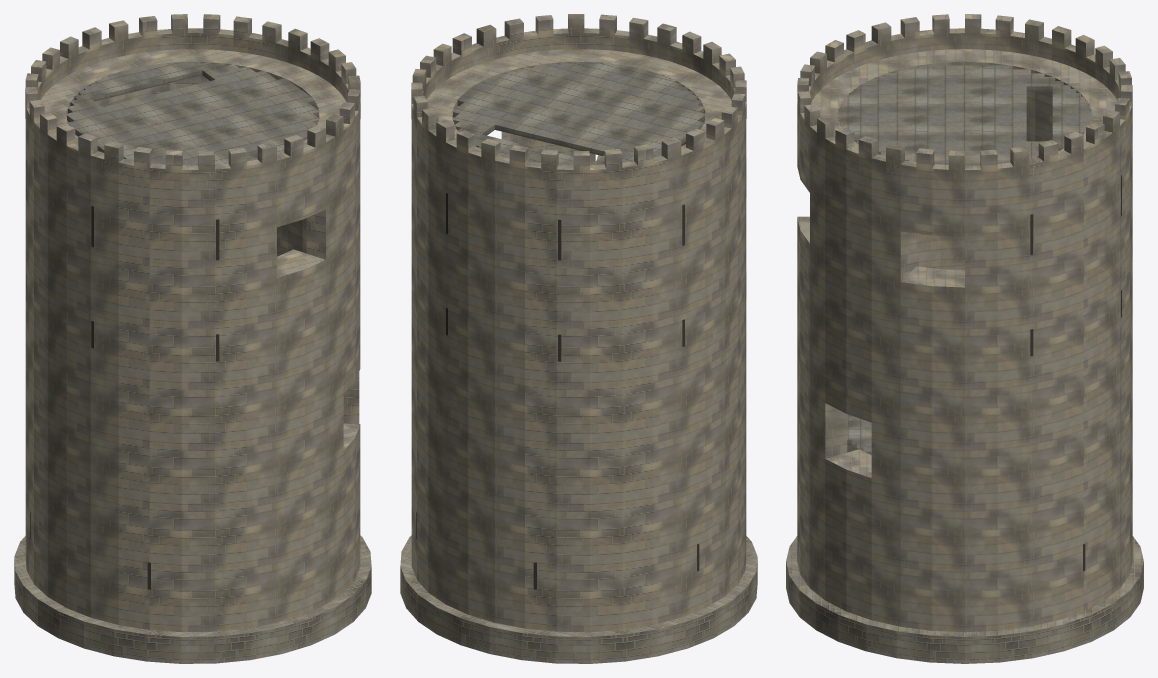
File: fort-tower-round.fort-v1.lod1.glb
3 views of the same model, side by side, from view 1: azimuth 30°, elevation 25°; view 2: azimuth 150°, elevation 25°; view 3: azimuth 270°, elevation 25° (orthographic).
Parts seen in each view (by area): view 1: fort-tower-round; view 2: fort-tower-round; view 3: fort-tower-round.
Part boxes in pixels (x1,y1,x2,y2): fort-tower-round: [14, 14, 371, 663]; fort-tower-round: [400, 14, 757, 663]; fort-tower-round: [786, 14, 1143, 663].
Size of the model in its own units: 19.2 by 29.8 by 19.2.
4 materials, 3 textured.
